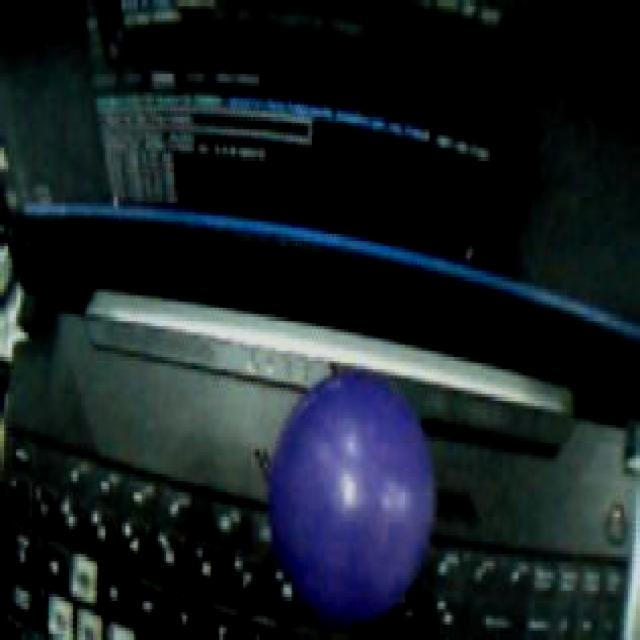BallPurple: (270, 370, 436, 625)
